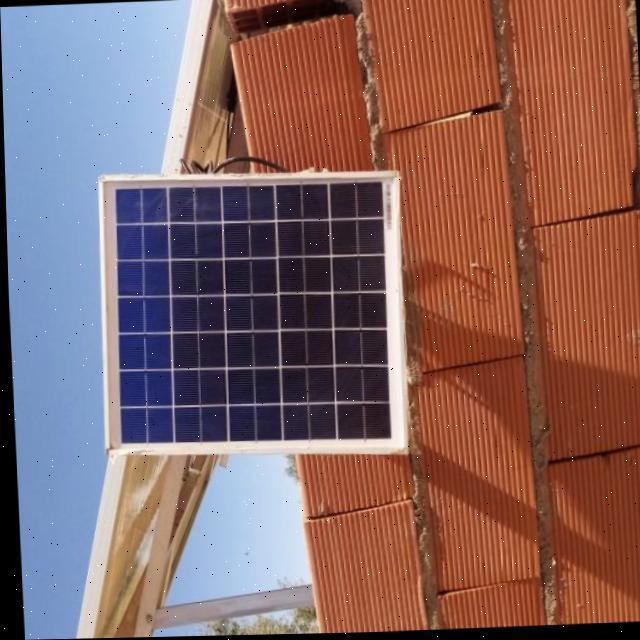Normal Solar Panel: (94, 166, 408, 462)
